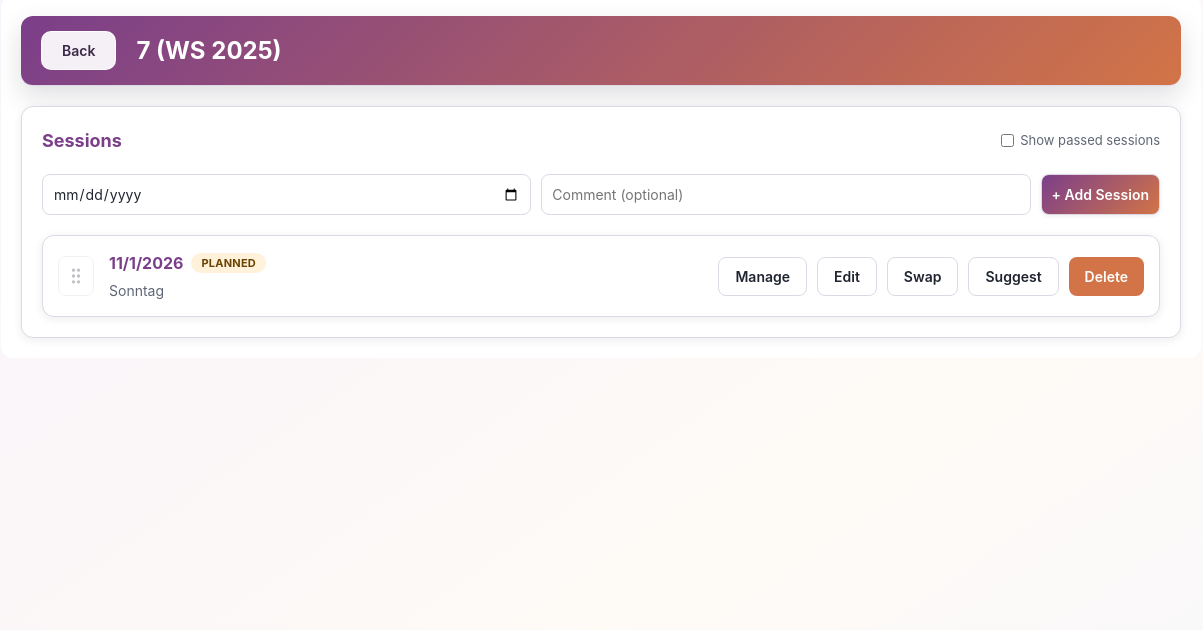
Test: CourseDetail › shows Repeat 1 for a session dance
Click the button "Manage".
click(763, 276)  # box [718,256,807,296]
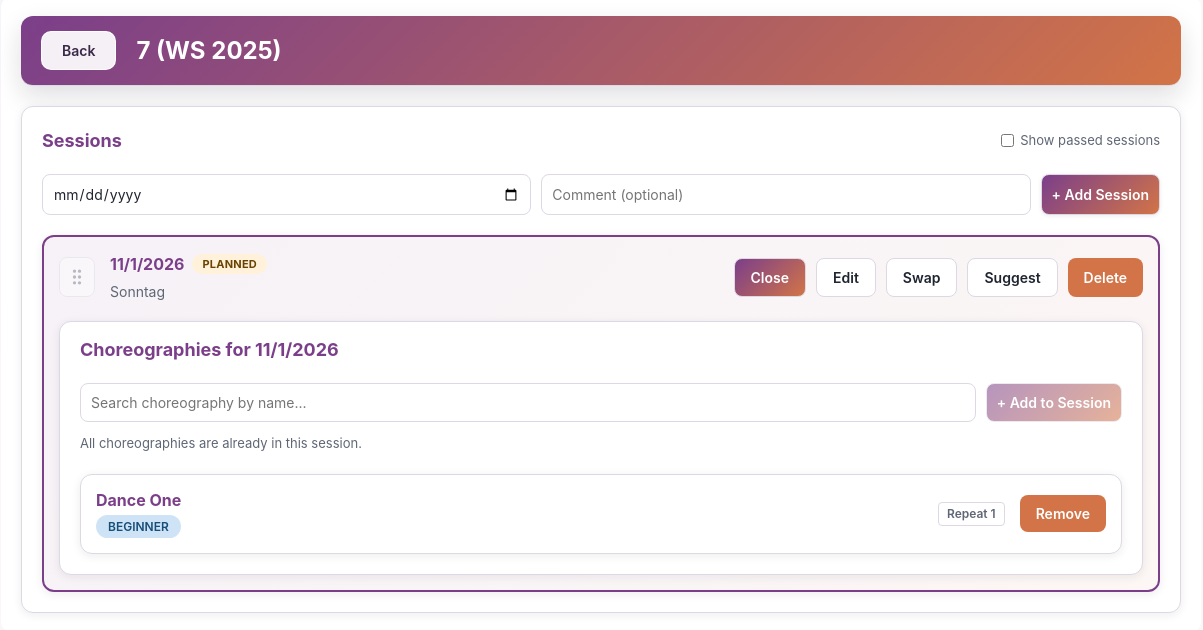
Now the text named "Repetition 1" reads "Repeat 1", box [947,506,996,520]
